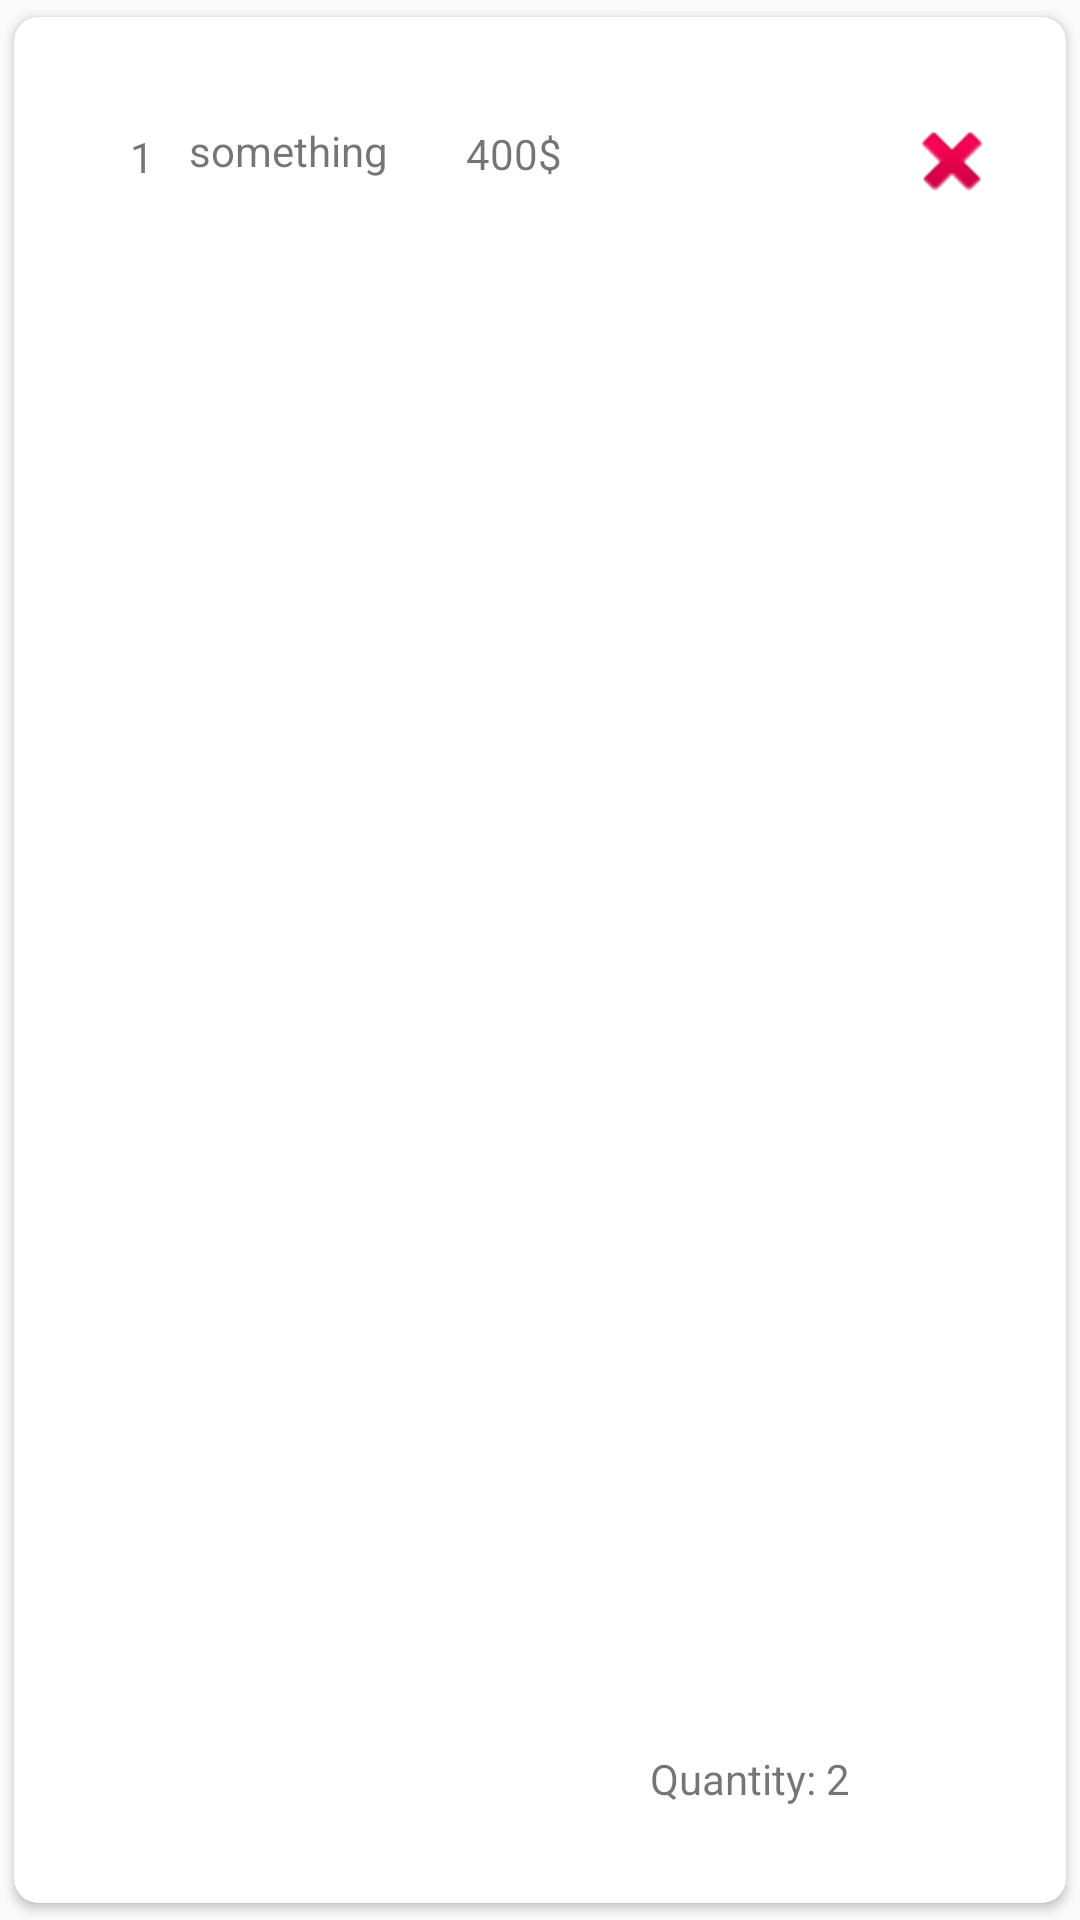

Screen size 1080*1920. Icon name, then its center in pixels as point (x, y):
delete: point (952, 161)
